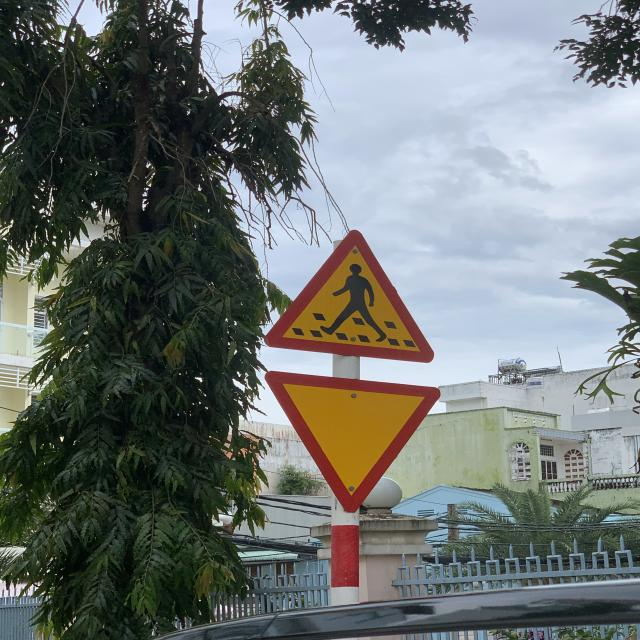Duong_Nguoi_Di_Bo_Sang_Ngang: (268, 228, 433, 360)
Gioi_Han_Toc_Do_25: (266, 370, 440, 510)
